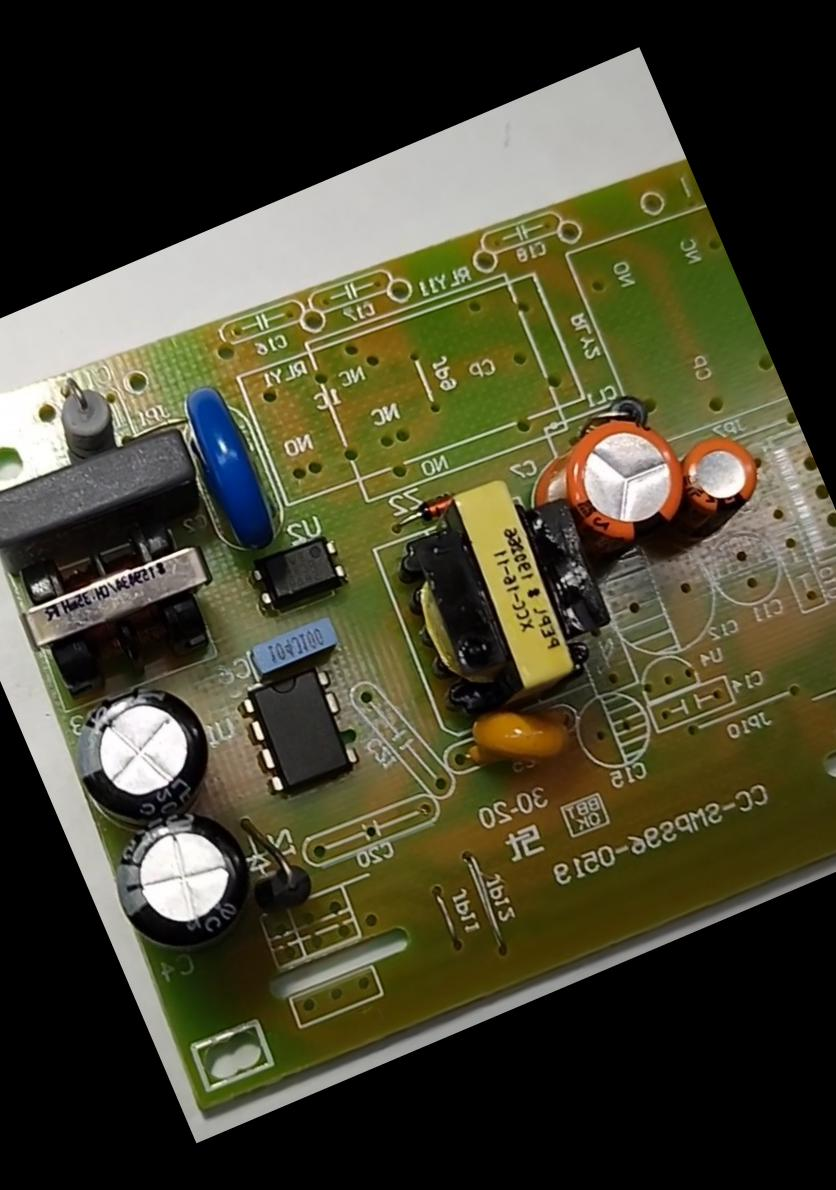Cap1: (508, 396, 714, 594)
Cap2: (649, 416, 787, 544)
Cap3: (50, 660, 242, 848)
Cap4: (86, 785, 283, 978)
MOSFET: (226, 648, 374, 816)
Mov: (154, 362, 312, 584)
Resistor: (39, 367, 137, 479)
Transformer: (362, 446, 648, 750), (0, 499, 240, 729)
